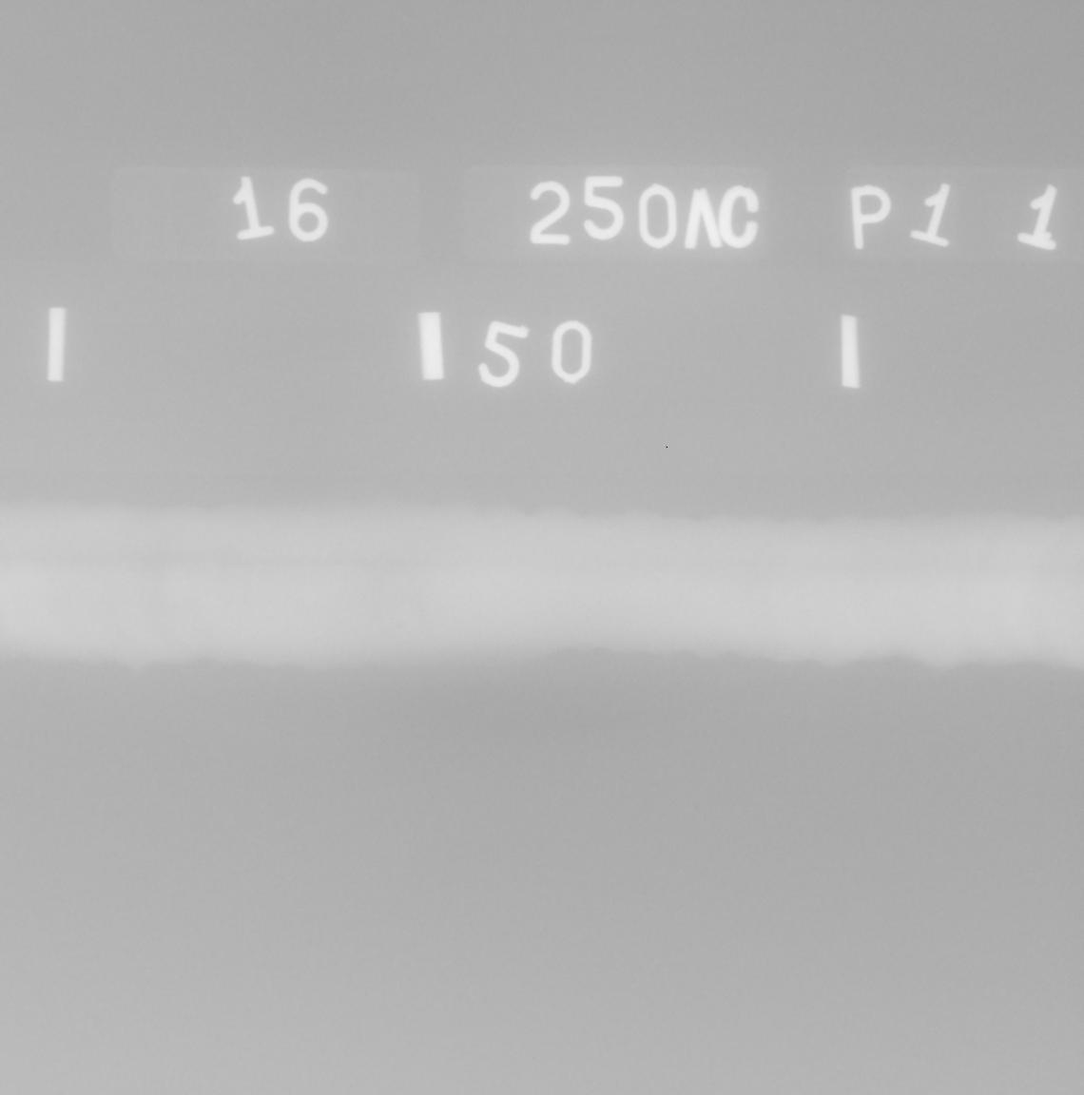Pore/Porosity: (397, 624, 401, 629)
